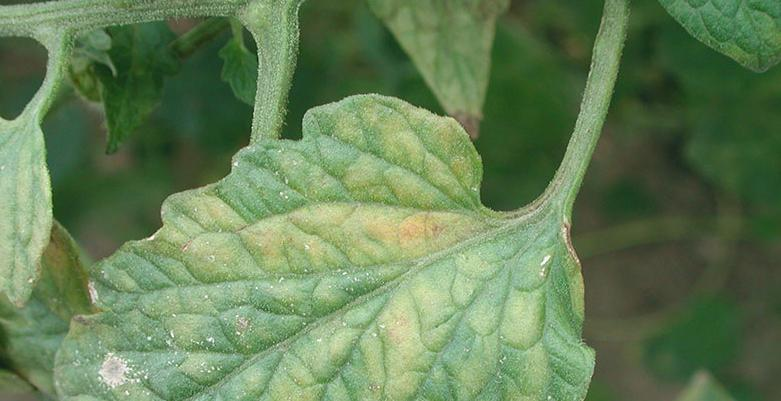Tomato mold leaf: (39, 94, 598, 401), (0, 109, 63, 333)
